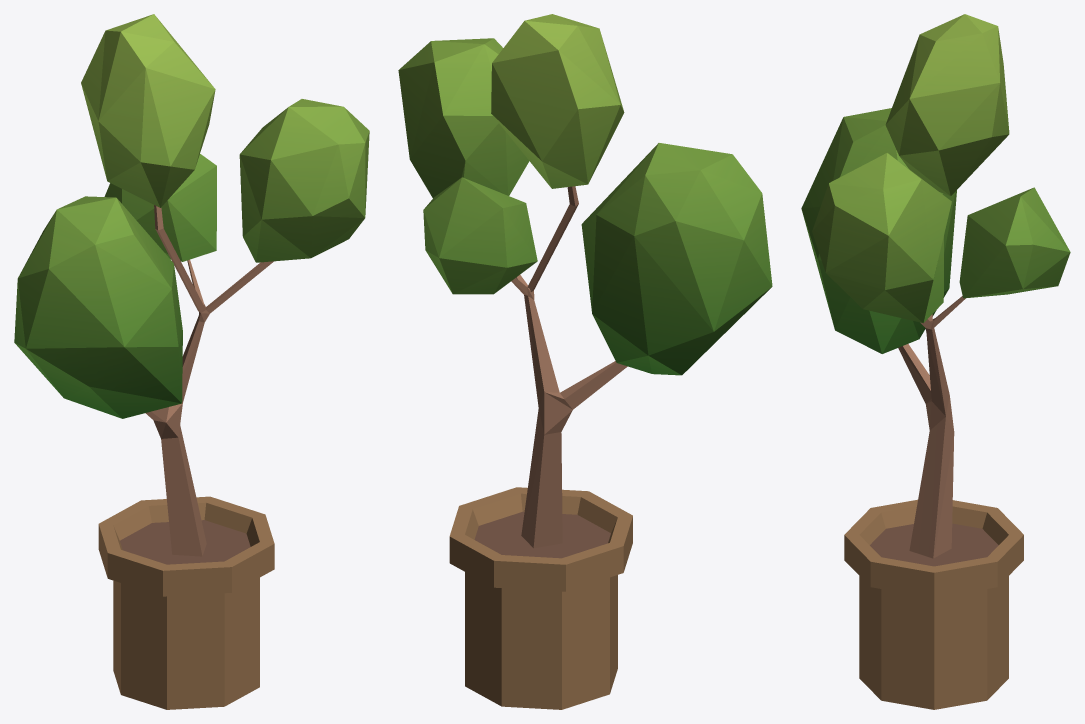
File: Pot_07.fbx
The picture shows the model from 3 angles, left to right: view 1: azimuth 30°, elevation 25°; view 2: azimuth 150°, elevation 25°; view 3: azimuth 270°, elevation 25°; orthographic projection. The views are drawn at different scales.
Parts seen in each view (by area): view 1: Pot_07; view 2: Pot_07; view 3: Pot_07.
Part boxes in pixels (bbox=[...]): Pot_07: bbox=[14, 14, 369, 709]; Pot_07: bbox=[398, 14, 772, 709]; Pot_07: bbox=[801, 14, 1070, 709].
Bounding box in the file's own units: 72.31 × 128 × 48.63.
